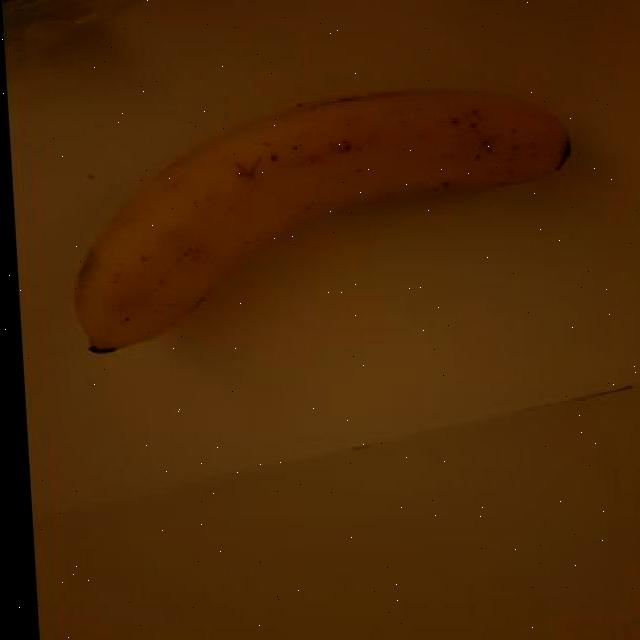banana: (54, 82, 589, 358)
